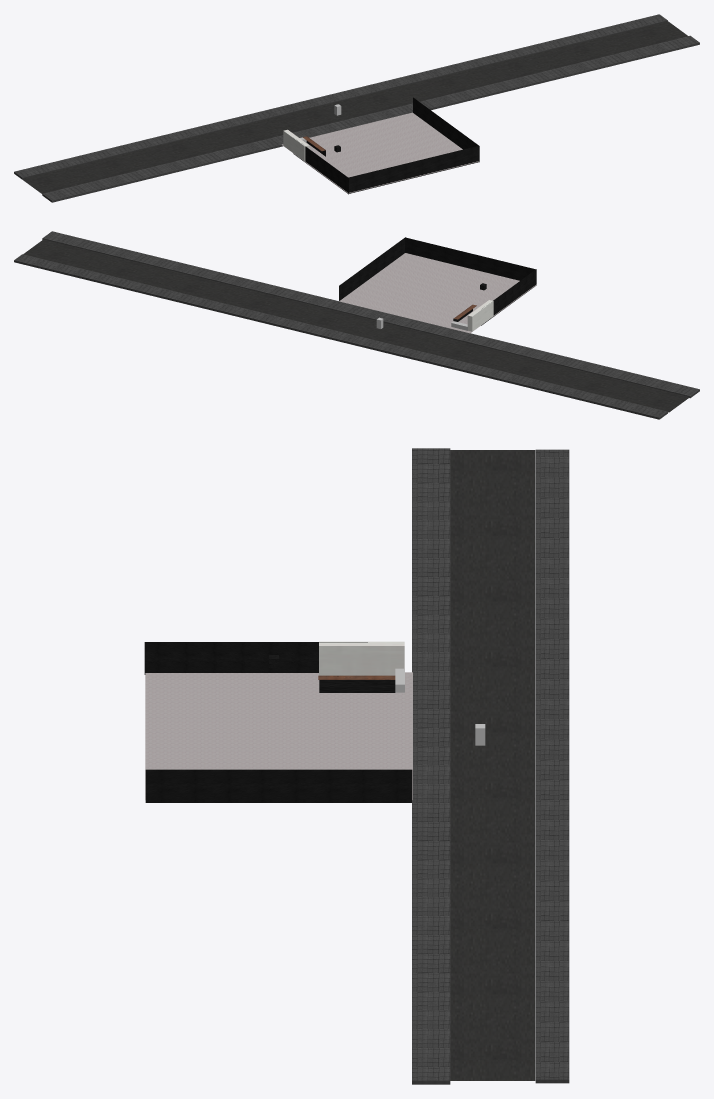
Rendered from Sin_nombre.obj.
3 renders of one model, top to bottom at view 1: azimuth 30°, elevation 25°; view 2: azimuth 150°, elevation 25°; view 3: azimuth 270°, elevation 25°, orthographic. The views are drawn at different scales.
Parts seen in each view (by area): view 1: Calle, Bereda_definitiva, La_misma_bereda, Piso_Carre, Pared_Negra.002, Pared_Negra.001, Pared_Negra, Pared_blanca; view 2: Calle, Piso_Carre, La_misma_bereda, Bereda_definitiva, Pared_Negra.002, Pared_Negra.001, Pared_Negra, Pared_blanca; view 3: Calle, Bereda_definitiva, Piso_Carre, La_misma_bereda, Pared_Negra.001, Pared_Negra, Pared_blanca, Cubo.001.
Part boxes in pixels (x1,y1,x2,y2): Calle: [22, 21, 687, 193]; Bereda_definitiva: [42, 35, 699, 202]; La_misma_bereda: [14, 14, 667, 178]; Piso_Carre: [281, 112, 478, 193]; Pared_Negra.002: [348, 146, 479, 193]; Pared_Negra.001: [413, 97, 479, 161]; Pared_Negra: [293, 140, 348, 194]; Pared_blanca: [283, 129, 309, 161]; Calle: [23, 239, 689, 412]; Piso_Carre: [339, 253, 536, 333]; La_misma_bereda: [14, 254, 667, 419]; Bereda_definitiva: [42, 231, 699, 398]; Pared_Negra.002: [405, 237, 535, 280]; Pared_Negra.001: [339, 238, 404, 300]; Pared_Negra: [481, 269, 536, 325]; Pared_blanca: [467, 300, 493, 331]; Calle: [450, 450, 535, 1080]; Bereda_definitiva: [412, 448, 450, 1084]; Piso_Carre: [145, 672, 412, 800]; La_misma_bereda: [535, 449, 569, 1083]; Pared_Negra.001: [145, 769, 412, 802]; Pared_Negra: [144, 642, 367, 674]; Pared_blanca: [319, 641, 404, 675]; Cubo.001: [319, 680, 395, 692].
Bounding box in the file's own units: 303 × 9.02 × 86.05.
